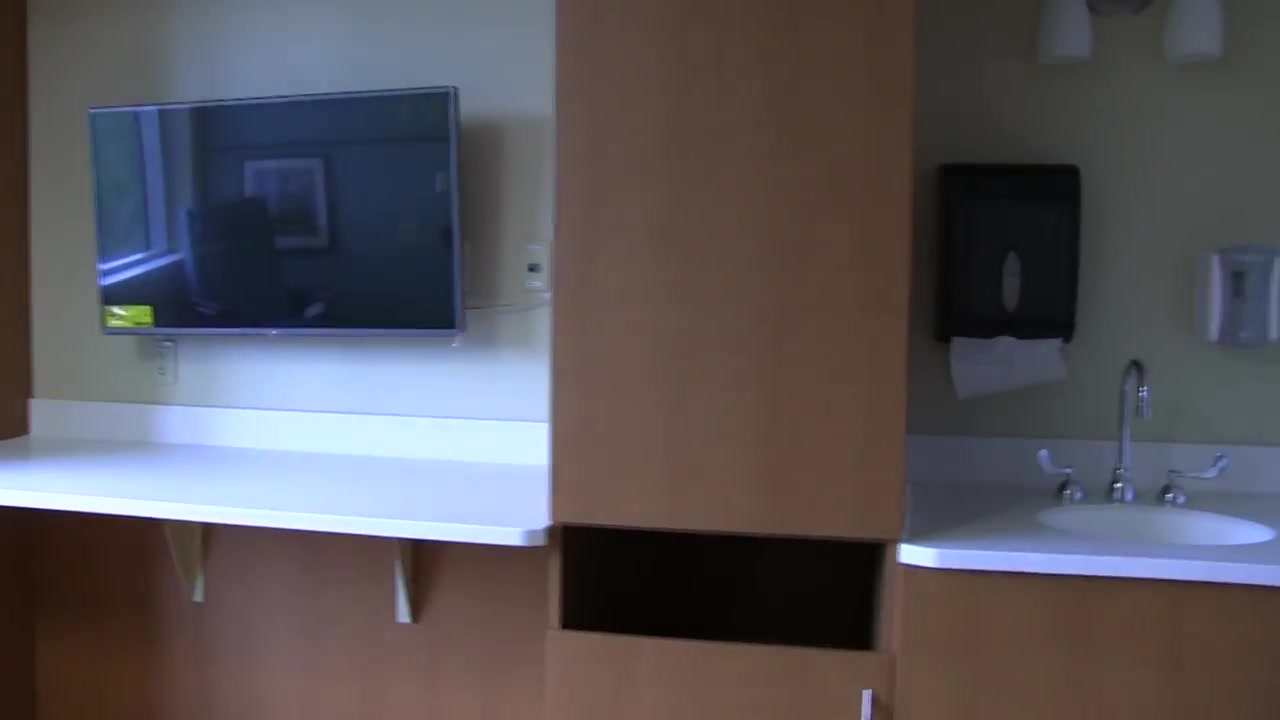TV: (88, 83, 465, 338)
countertop: (1, 412, 552, 555), (900, 473, 1279, 580)
dispenser: (932, 158, 1082, 348), (1194, 249, 1280, 348)
faucet: (1034, 359, 1228, 510)
handle: (854, 684, 879, 720)
sink: (1034, 498, 1272, 553)
